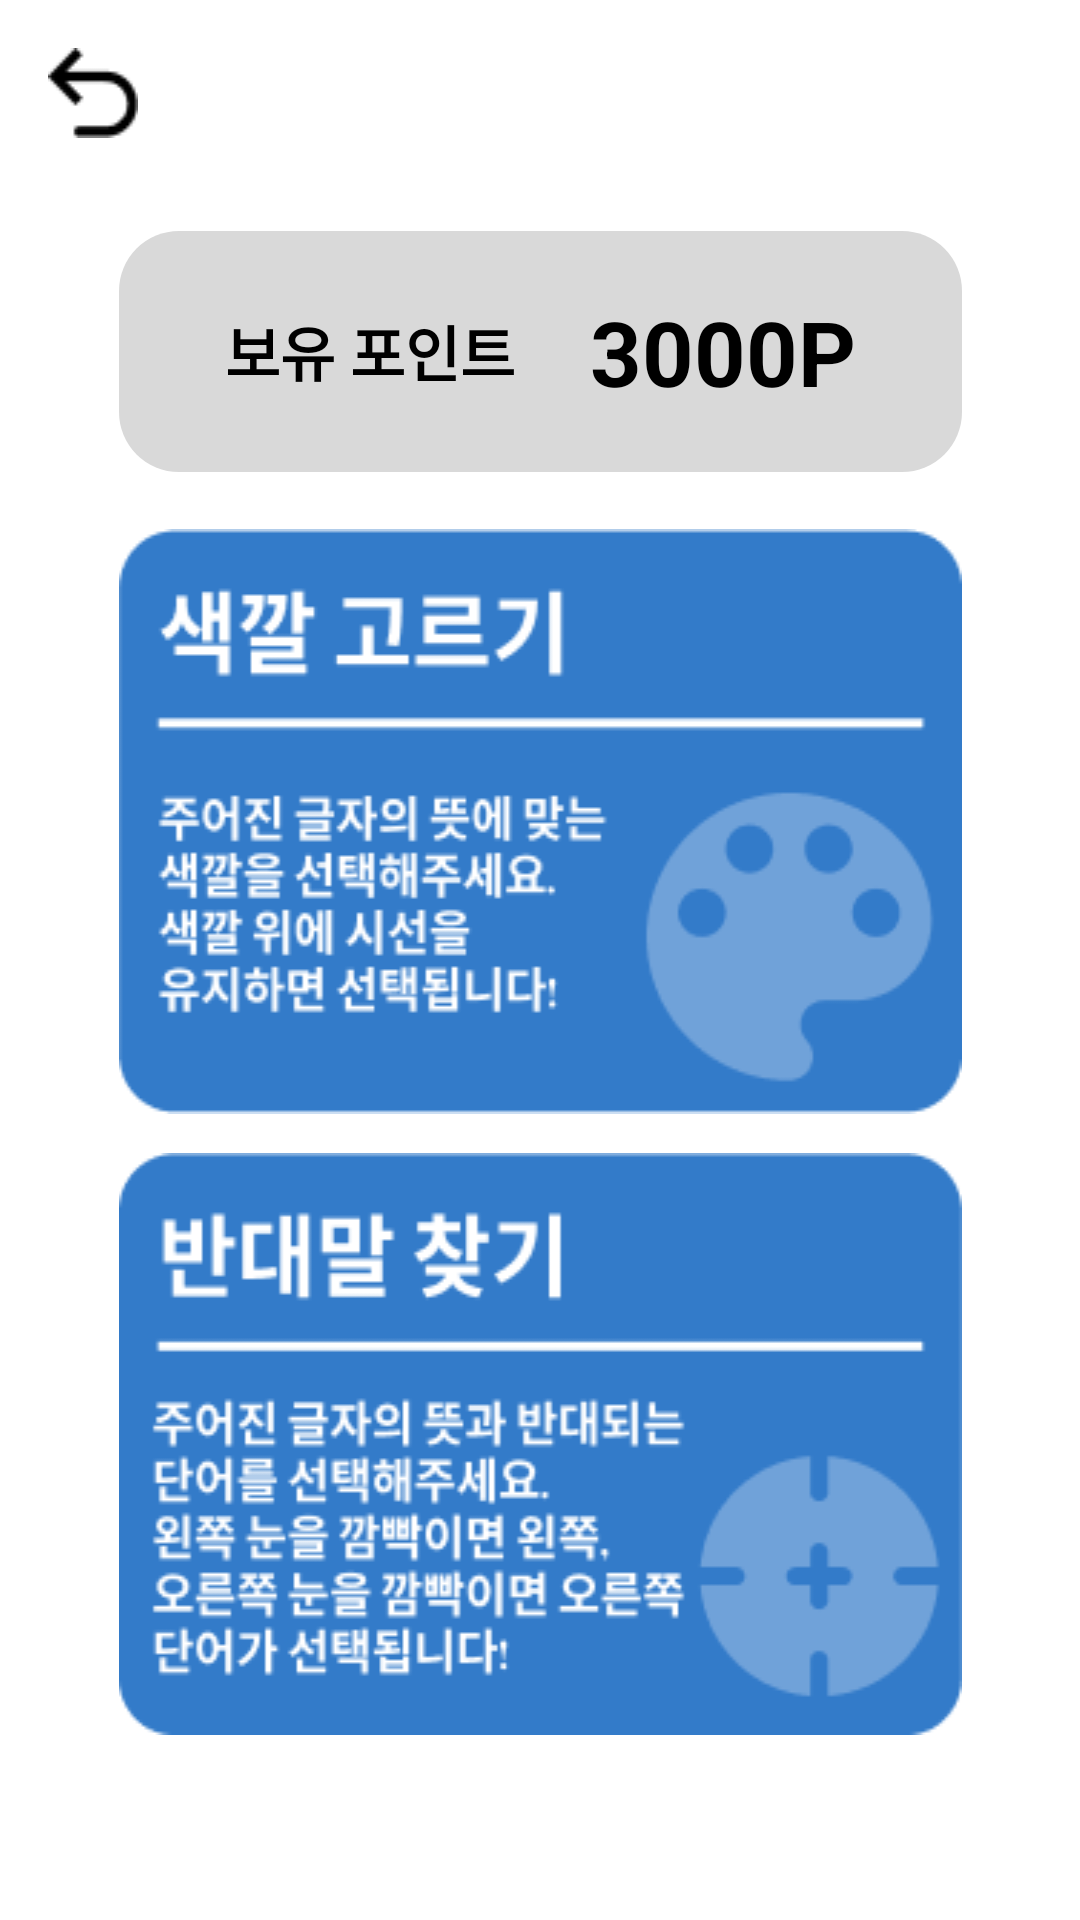

Icon bounding boxes for this 1080*1920 phone screenshot, format (x1, y1, x2, y2):
뒤로가기 버튼: (48, 48, 138, 138)
